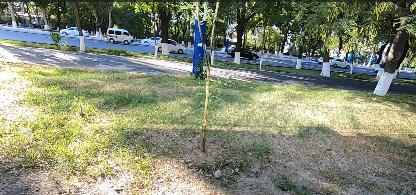car: (107, 26, 135, 45), (227, 44, 260, 60), (156, 37, 187, 54)
tree: (370, 1, 416, 101), (313, 0, 335, 80), (231, 0, 250, 64), (156, 3, 173, 60), (292, 18, 309, 71), (71, 0, 86, 55)
